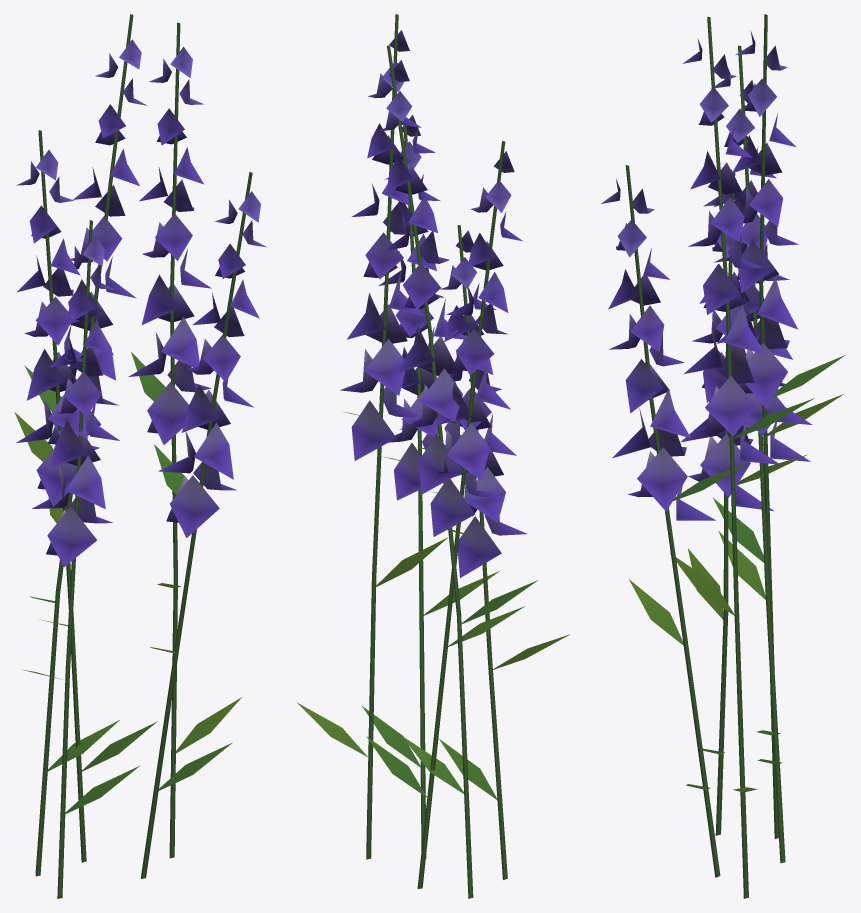
Rendered from flower-lupine-b.lod1.glb.
3 renders of one model, left to right at view 1: azimuth 30°, elevation 25°; view 2: azimuth 150°, elevation 25°; view 3: azimuth 270°, elevation 25°, orthographic. The views are drawn at different scales.
Parts seen in each view (by area): view 1: flower-lupine-b.lod1; view 2: flower-lupine-b.lod1; view 3: flower-lupine-b.lod1.
Part boxes in pixels (x1=…): flower-lupine-b.lod1: x1=14, y1=14, x2=266, y2=898; flower-lupine-b.lod1: x1=297, y1=14, x2=570, y2=898; flower-lupine-b.lod1: x1=601, y1=14, x2=845, y2=898.
Size of the model in its own units: 0.2415 by 0.7797 by 0.1989.
